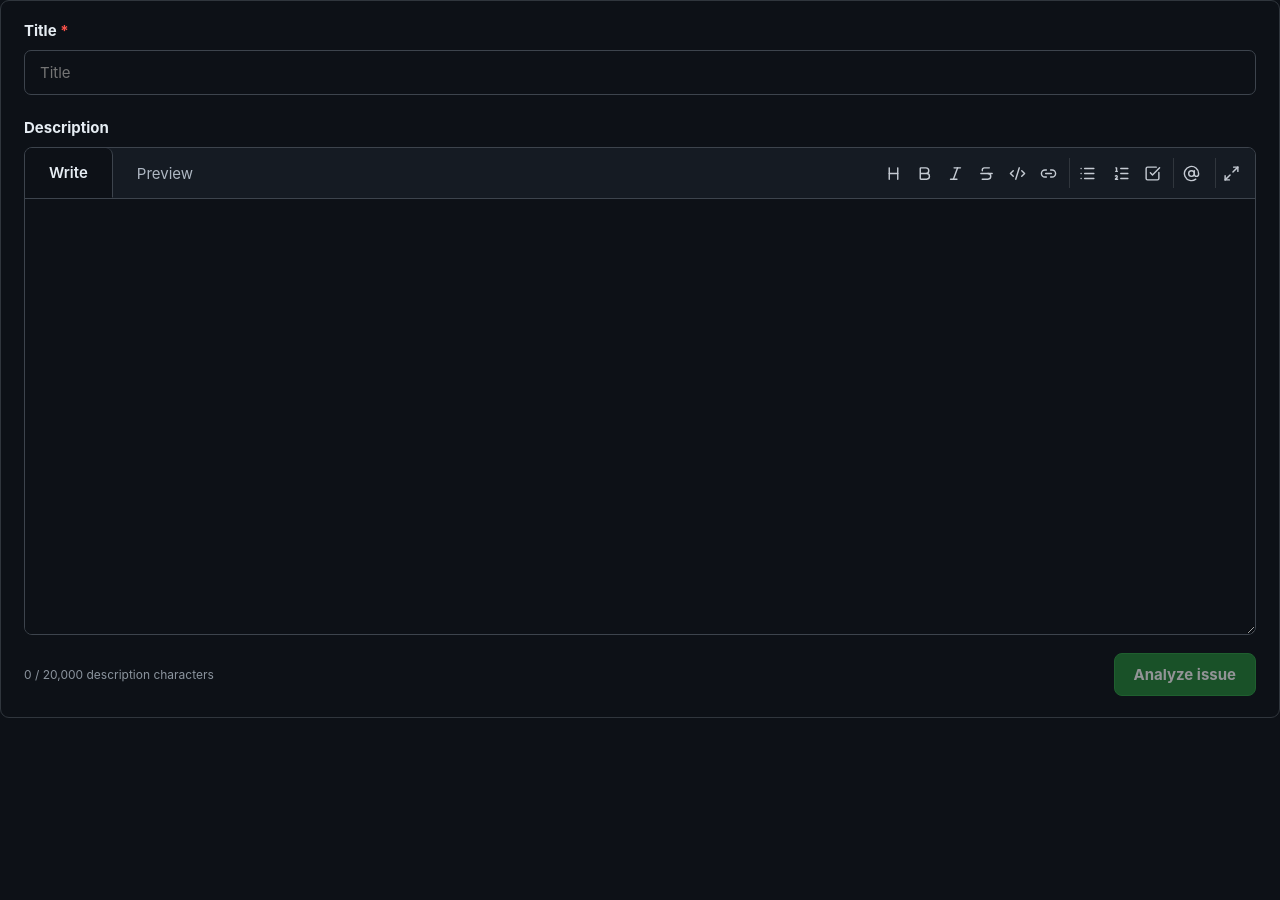
Test: IssueEditor › renders GitHub Flavored Markdown task lists
Click the text box named "issue description in markdown" at [640, 416], box [25,199,1255,634]
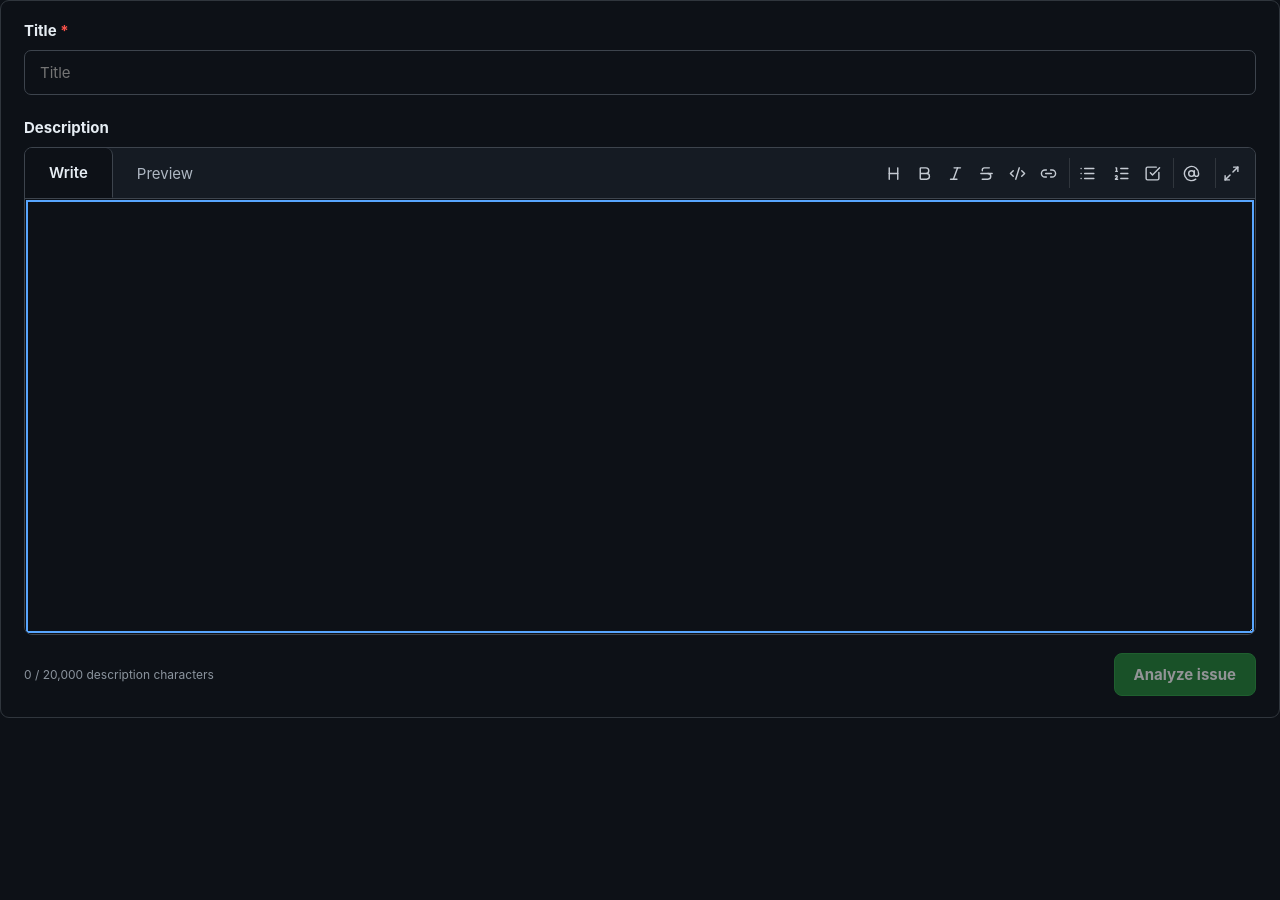
Type keys "- [x] Reproduced issue"
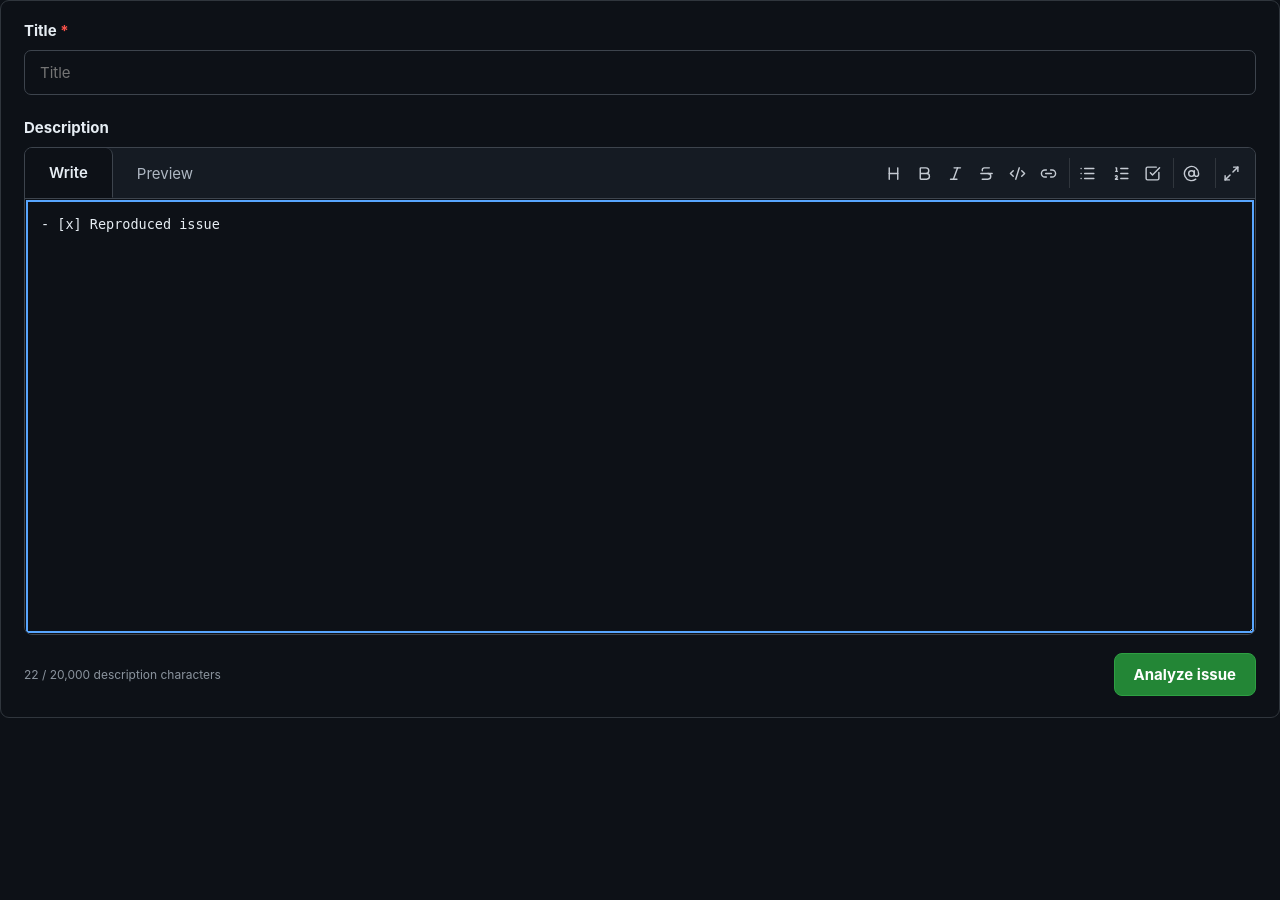
expect the text box named "issue description in markdown" holds "- [x] Reproduced issue": met, box [25,199,1255,634]
Click the tab "Preview" at [165, 173], box [113,148,217,198]
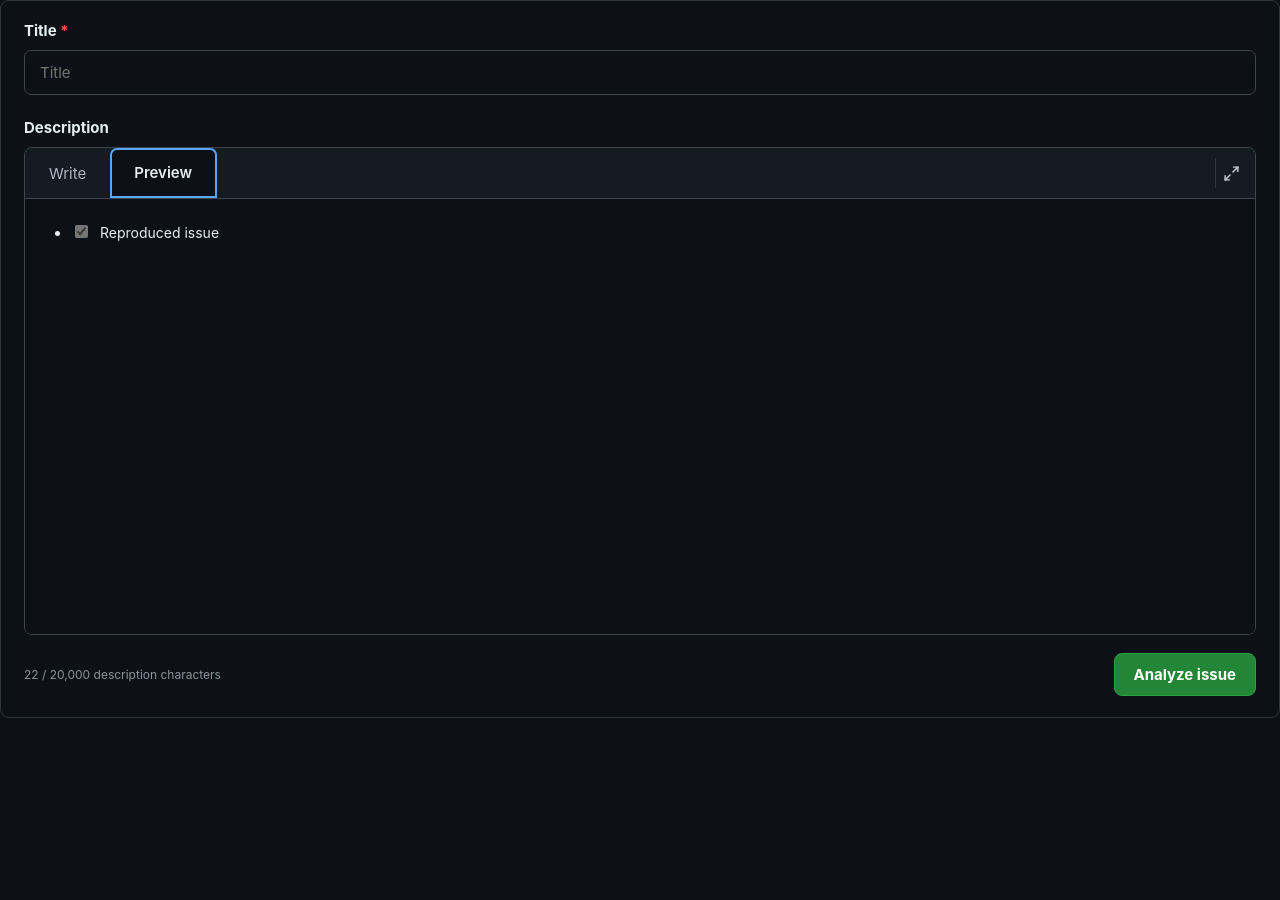
expect the checkbox is checked: met, box [75,225,88,238]
expect the checkbox is disabled: met, box [75,225,88,238]
